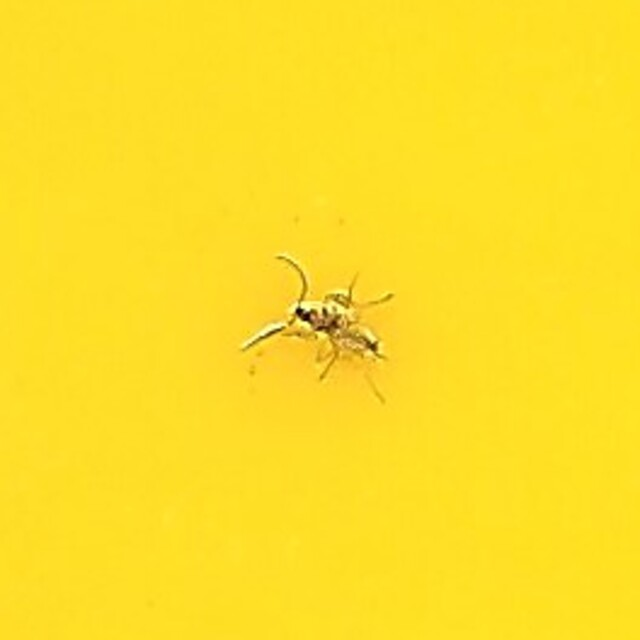Nematocera: (242, 249, 398, 391)
